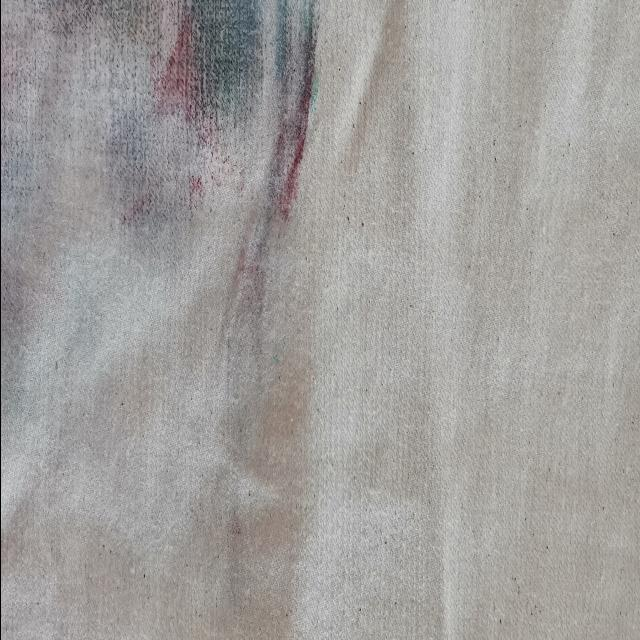taaaches: (0, 0, 327, 411)
